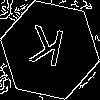K: (25, 25, 66, 77)
